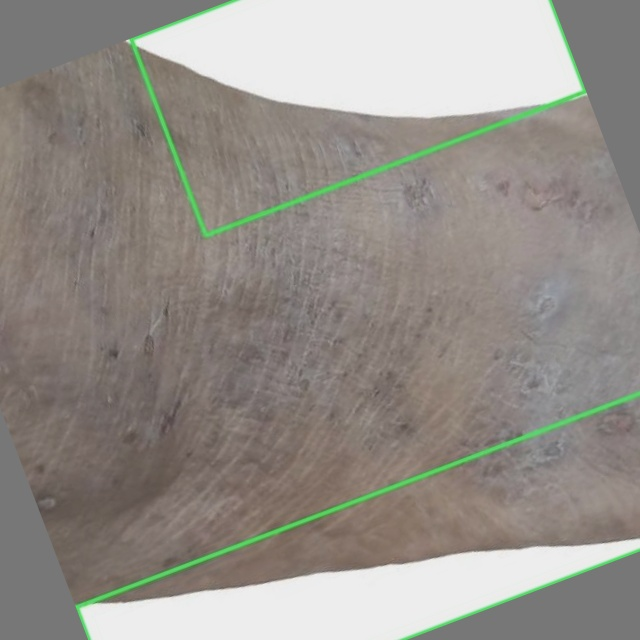Contact Dermatitis: (76, 393, 639, 639), (130, 0, 585, 237)
